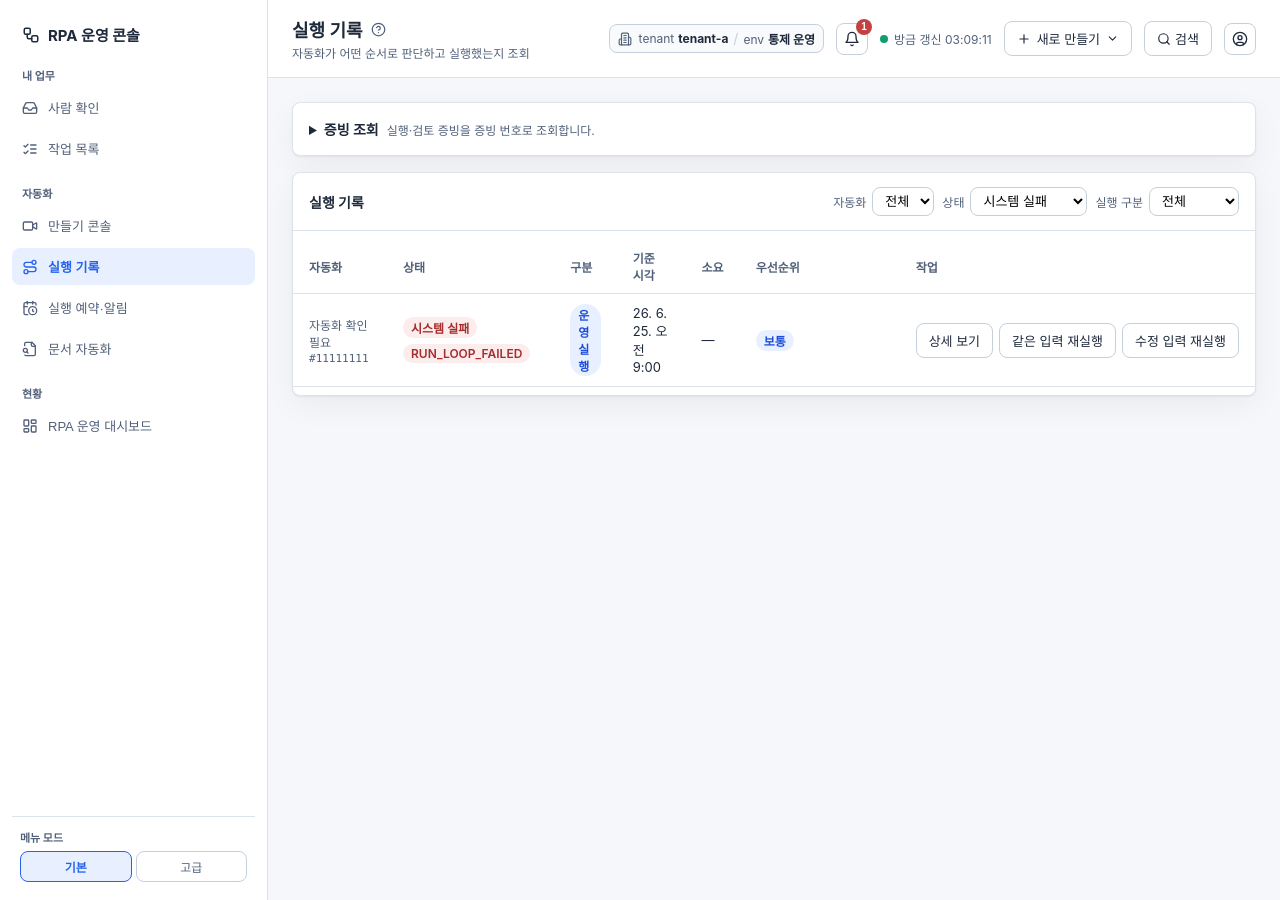
RunTrace failed-run rerun actions › failed run can be rerun with the same input
The image size is (1280, 900).
Click the button "같은 입력 재실행" at (1058, 340), box [999, 322, 1116, 358]
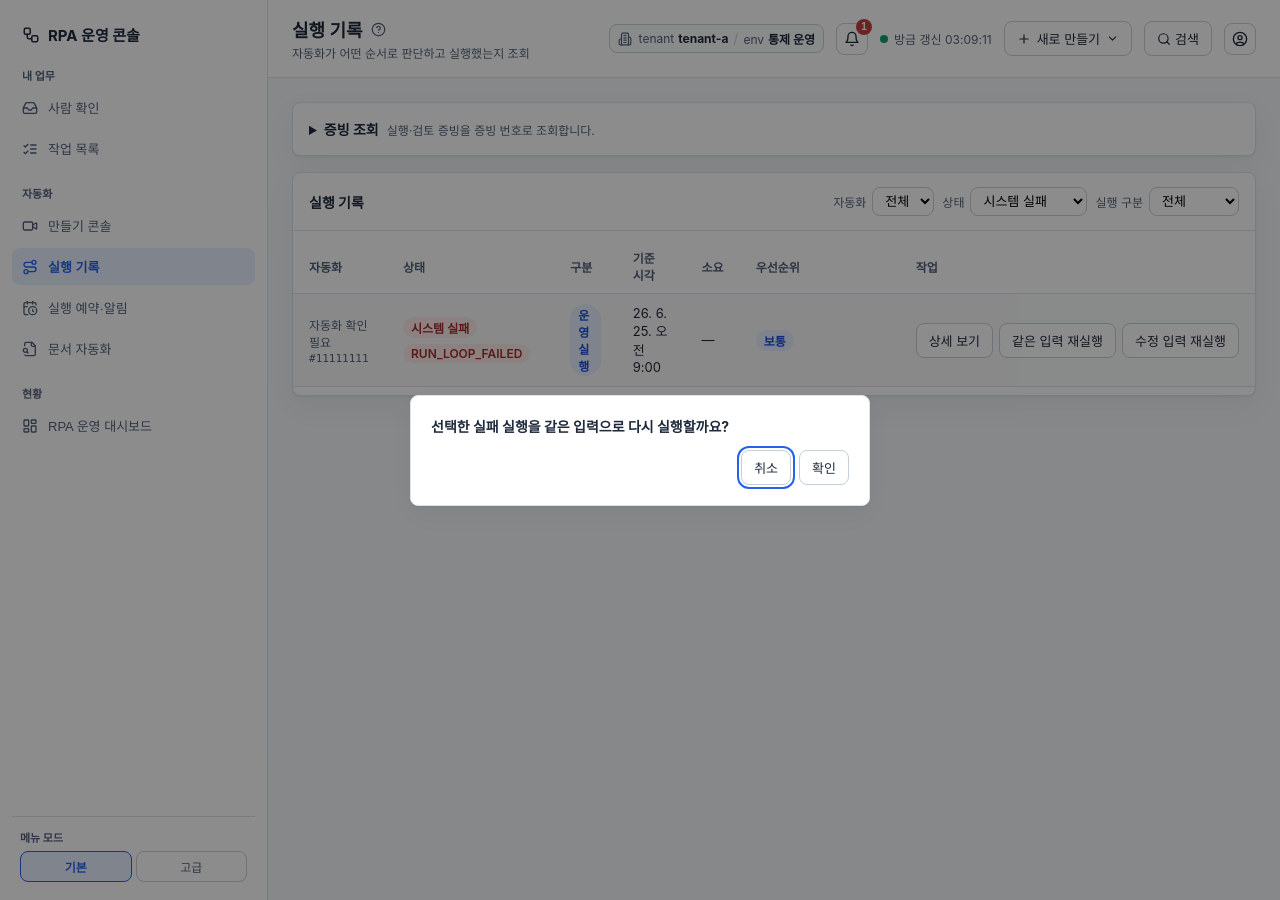
Result: the button "확인" is shown
Click the button "확인" at (824, 467), box [799, 450, 849, 484]
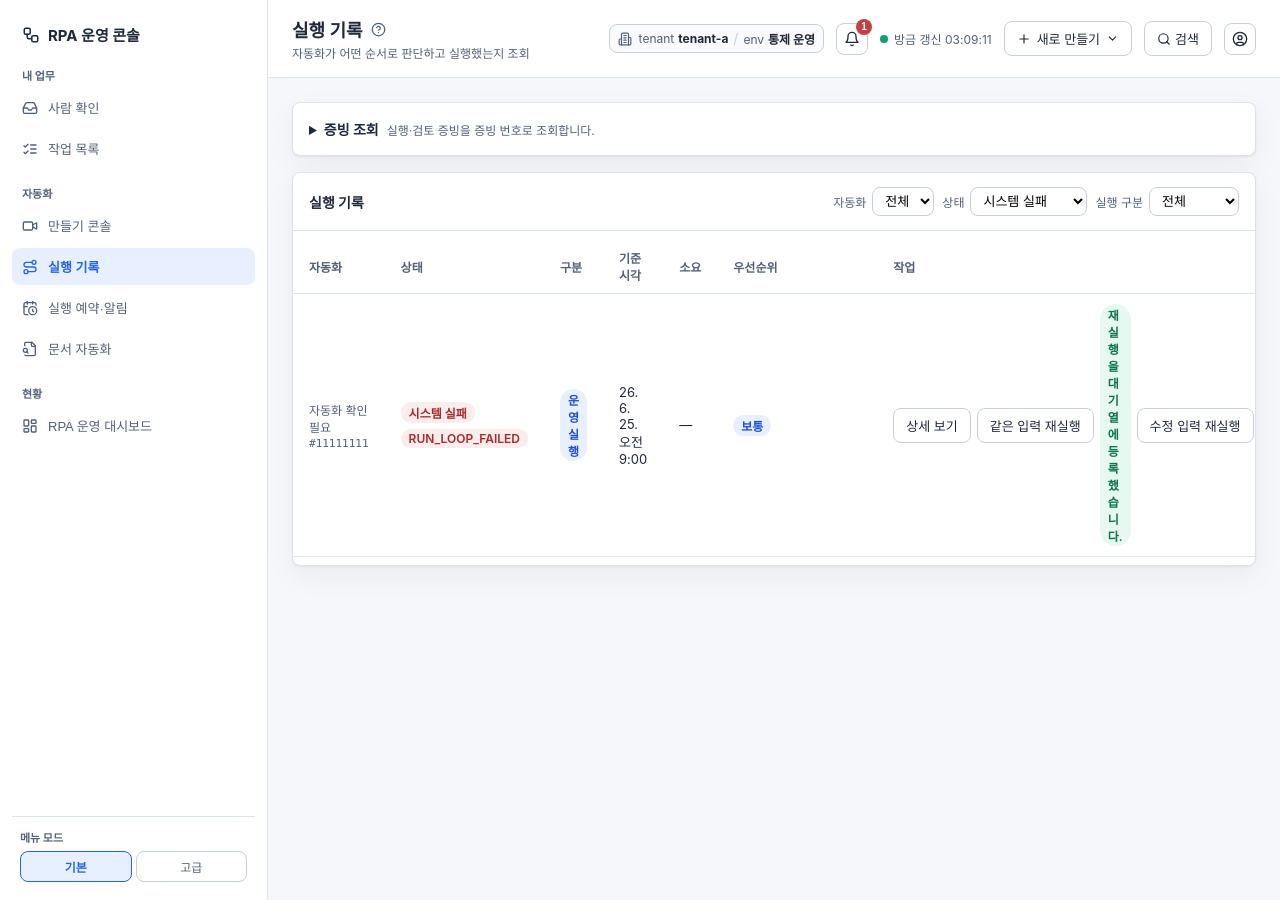
Result: the text "재실행을 대기열에 등록했습니다." is shown at [1100, 304, 1131, 546]
